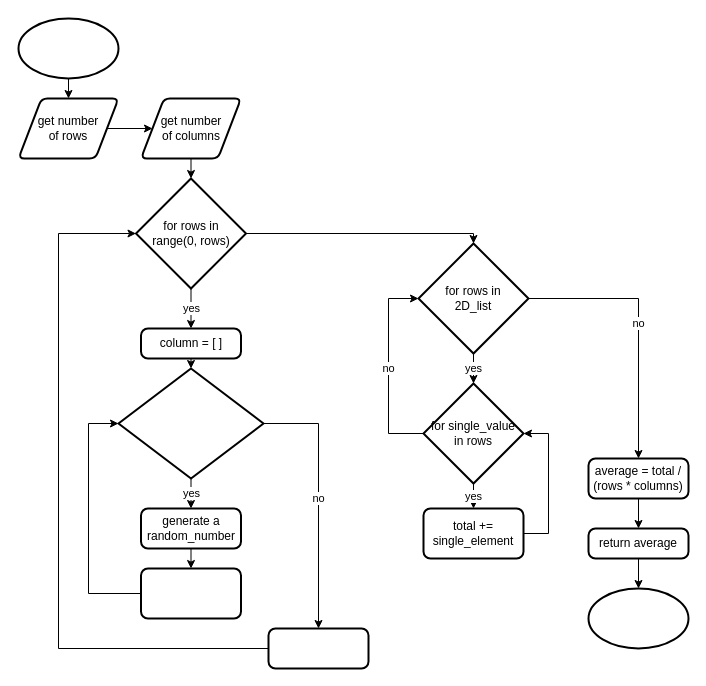
The diagram is 706 pixels wide and 686 high, and some of its shapes have lost their labels. The centre of each missing label's shape, as x and y in pixels:
"2D_list[ ] = column" goes at (318,648).
"column[ ] = random_number" goes at (191,593).
"for rows in range(0, columns)" goes at (190,423).
"start" goes at (68,48).
"stop" goes at (638,618).
